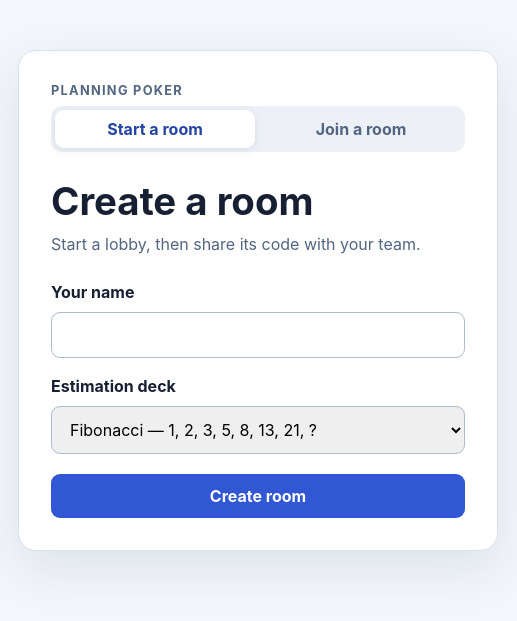
Test: room entry › joins a room using an uppercase normalized code
Click the button "Join a room" at (361, 128), box [261, 110, 461, 148]
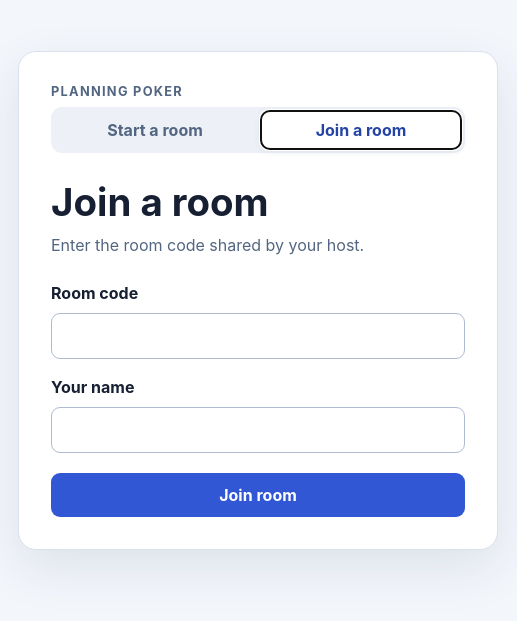
Type "abc123" into the field labelled "Room code" at (258, 336), box [51, 312, 465, 358]
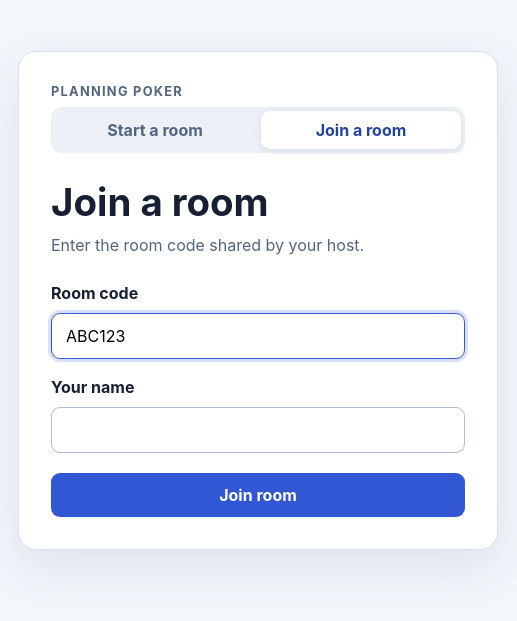
Type " Sam " into the field labelled "Your name" at (258, 430), box [51, 406, 465, 452]
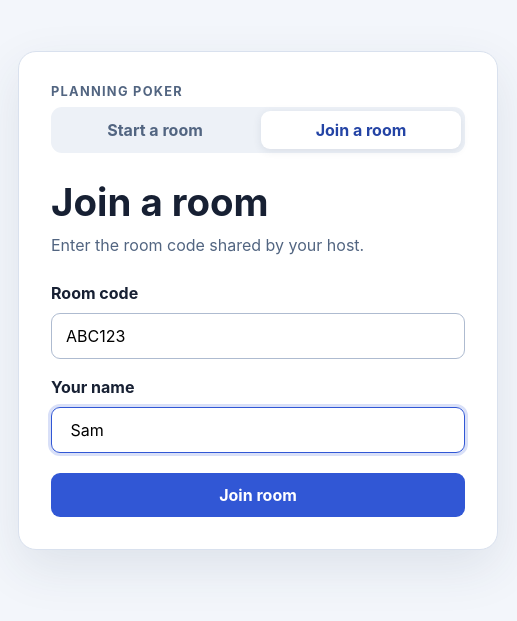
Click the button "Join room" at (258, 494), box [51, 472, 465, 516]
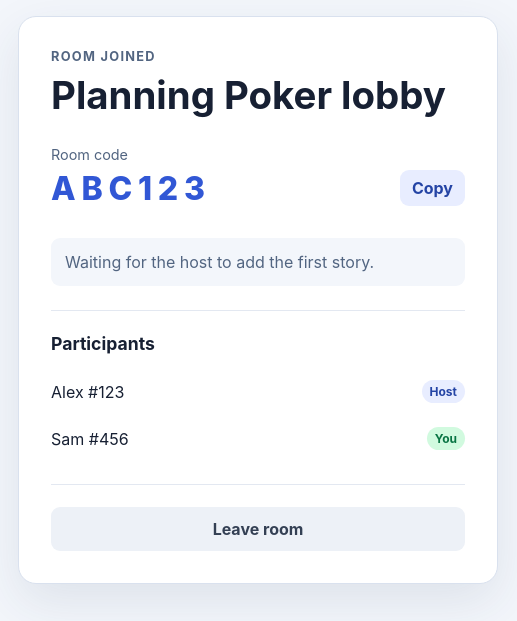
Expected: the text "You" is shown, [427, 427, 465, 450]
Now the text "Sam #456" is shown, box [51, 429, 129, 449]
Now the text "Alex #123" is shown, box [51, 382, 124, 402]
